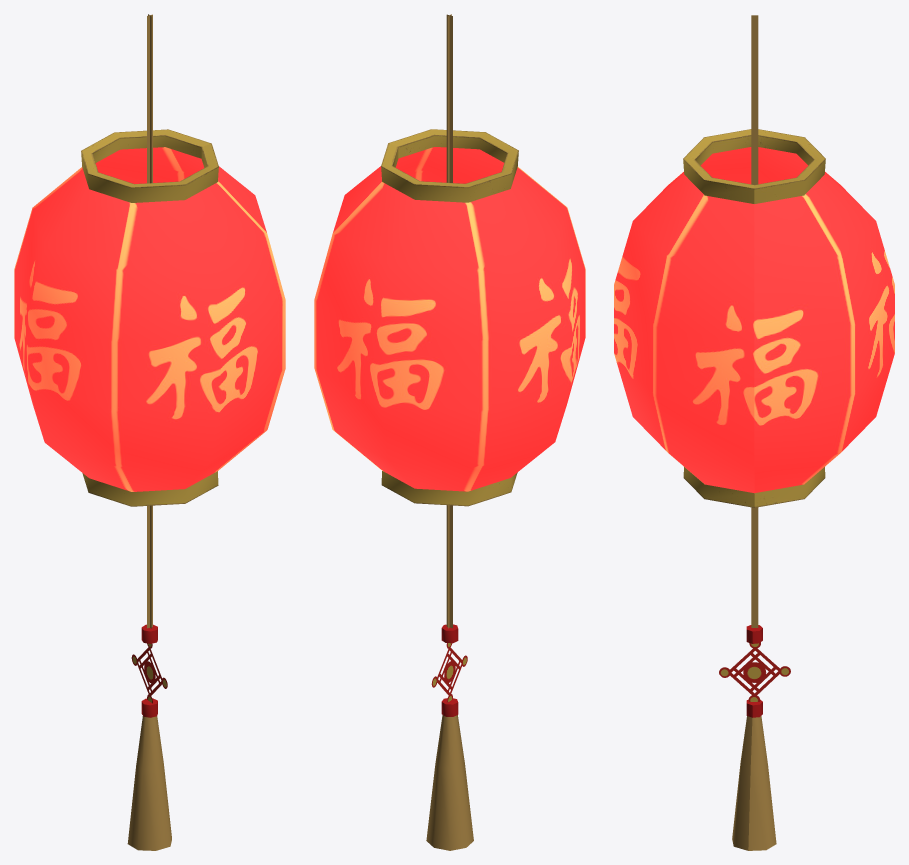
File: lantern04.fbx
The picture shows the model from 3 angles, left to right: view 1: azimuth 30°, elevation 25°; view 2: azimuth 150°, elevation 25°; view 3: azimuth 270°, elevation 25°; orthographic projection.
Parts seen in each view (by area): view 1: lantern04; view 2: lantern04; view 3: lantern04.
Part boxes in pixels (x1,y1,x2,y2): lantern04: (14,14,285,850); lantern04: (314,14,585,850); lantern04: (614,15,894,850).
Bounding box in the file's own units: 61.65 × 200 × 61.65.
Materials: 1 (1 with a texture image).
